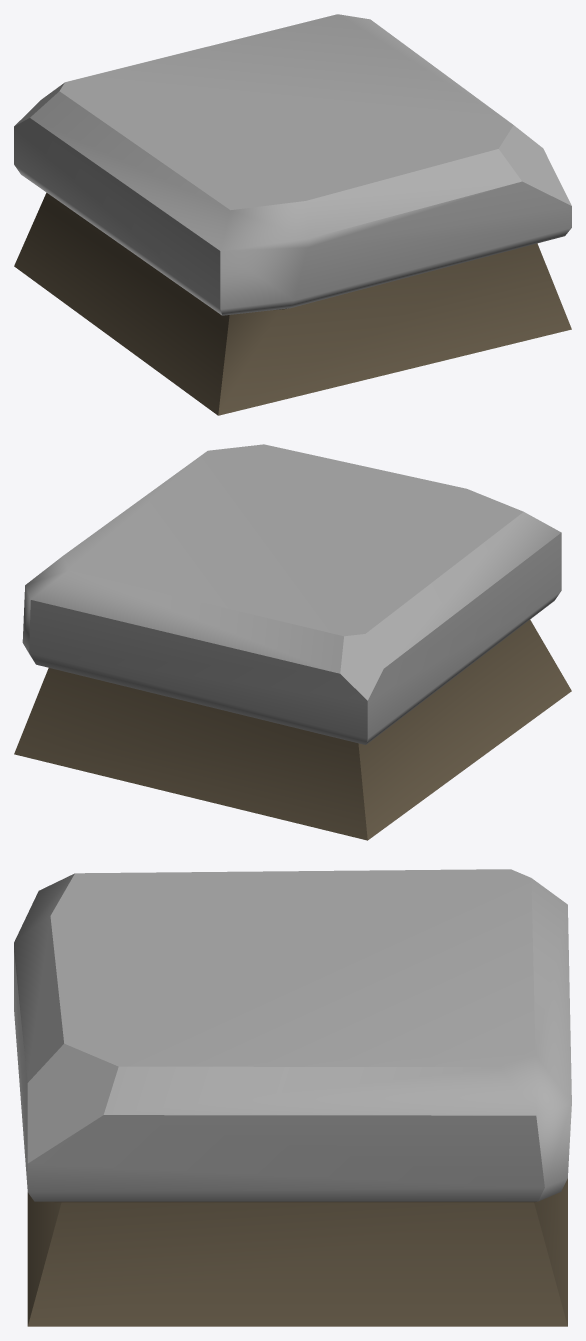
File: SM_StoneCounter01.fbx
The picture shows the model from 3 angles, top to bottom: view 1: azimuth 30°, elevation 25°; view 2: azimuth 150°, elevation 25°; view 3: azimuth 270°, elevation 25°; orthographic projection. The views are drawn at different scales.
Parts seen in each view (by area): view 1: polySurface10; view 2: polySurface10; view 3: polySurface10.
Boxes of the visible parts, bbox=[...] form: polySurface10: bbox=[14, 14, 571, 415]; polySurface10: bbox=[14, 444, 571, 840]; polySurface10: bbox=[14, 869, 571, 1326].
Bounding box in the file's own units: 100 × 50 × 103.
